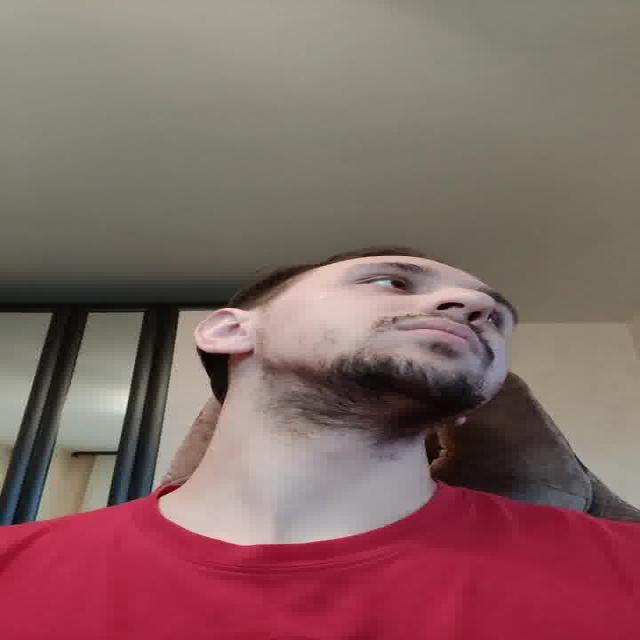earlobe: (207, 342, 255, 355), (447, 416, 471, 427)
eye: (361, 274, 418, 294), (483, 308, 507, 330)
nose: (429, 304, 484, 328)
wholeear: (194, 306, 254, 356)
